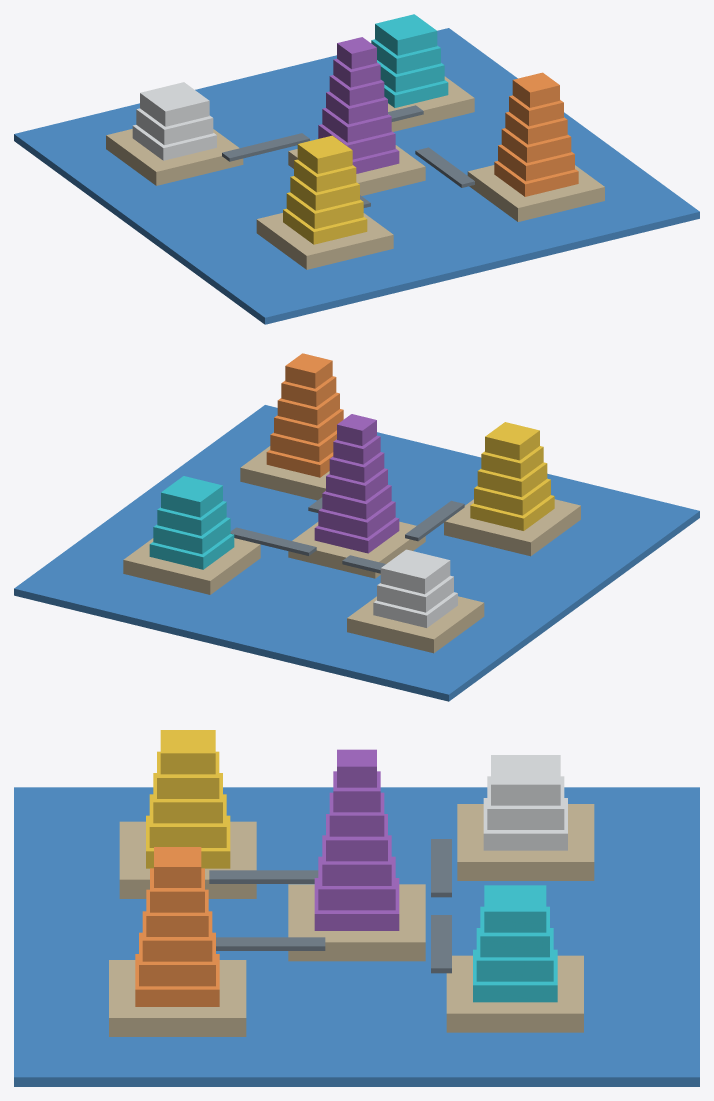
File: gpt-ilhas-das-torres.glb
3 views of the same model, one above another, from view 1: azimuth 30°, elevation 25°; view 2: azimuth 150°, elevation 25°; view 3: azimuth 270°, elevation 25° (orthographic). The views are drawn at different scales.
Parts seen in each view (by area): view 1: Ilhas das Torres-000, Ilhas das Torres-010, Ilhas das Torres-016, Ilhas das Torres-001, Ilhas das Torres-004, Ilhas das Torres-009, Ilhas das Torres-023, Ilhas das Torres-005, Ilhas das Torres-015, Ilhas das Torres-012, Ilhas das Torres-003, Ilhas das Torres-018 (+21 smaller); view 2: Ilhas das Torres-000, Ilhas das Torres-001, Ilhas das Torres-005, Ilhas das Torres-010, Ilhas das Torres-023, Ilhas das Torres-004, Ilhas das Torres-016, Ilhas das Torres-009, Ilhas das Torres-015, Ilhas das Torres-007, Ilhas das Torres-025, Ilhas das Torres-003 (+21 smaller); view 3: Ilhas das Torres-000, Ilhas das Torres-001, Ilhas das Torres-016, Ilhas das Torres-005, Ilhas das Torres-023, Ilhas das Torres-010, Ilhas das Torres-004, Ilhas das Torres-009, Ilhas das Torres-015, Ilhas das Torres-025, Ilhas das Torres-018, Ilhas das Torres-003 (+23 smaller).
Part boxes in pixels (box(x1,y1,x2,y2)): Ilhas das Torres-000: box(14, 28, 699, 324); Ilhas das Torres-010: box(256, 213, 393, 269); Ilhas das Torres-016: box(467, 165, 604, 221); Ilhas das Torres-001: box(106, 129, 243, 185); Ilhas das Torres-004: box(140, 82, 209, 126); Ilhas das Torres-009: box(375, 14, 437, 55); Ilhas das Torres-023: box(288, 145, 425, 195); Ilhas das Torres-005: box(388, 76, 474, 131); Ilhas das Torres-015: box(297, 135, 352, 173); Ilhas das Torres-012: box(286, 192, 363, 228); Ilhas das Torres-003: box(136, 108, 213, 145); Ilhas das Torres-018: box(498, 144, 574, 181); Ilhas das Torres-000: box(14, 405, 699, 701); Ilhas das Torres-001: box(347, 596, 484, 653); Ilhas das Torres-005: box(123, 538, 260, 594); Ilhas das Torres-010: box(444, 499, 580, 556); Ilhas das Torres-023: box(288, 521, 425, 578); Ilhas das Torres-004: box(380, 549, 450, 594); Ilhas das Torres-016: box(240, 446, 329, 500); Ilhas das Torres-009: box(161, 476, 222, 517); Ilhas das Torres-015: box(485, 422, 539, 460); Ilhas das Torres-007: box(153, 517, 230, 554); Ilhas das Torres-025: box(318, 501, 395, 537); Ilhas das Torres-003: box(377, 575, 453, 612); Ilhas das Torres-000: box(14, 787, 699, 1086); Ilhas das Torres-001: box(457, 804, 594, 880); Ilhas das Torres-016: box(109, 960, 246, 1036); Ilhas das Torres-005: box(446, 955, 583, 1032); Ilhas das Torres-023: box(288, 884, 425, 961); Ilhas das Torres-010: box(119, 821, 256, 898); Ilhas das Torres-004: box(491, 755, 560, 805); Ilhas das Torres-009: box(484, 885, 546, 932); Ilhas das Torres-015: box(160, 730, 215, 774); Ilhas das Torres-025: box(318, 856, 395, 910); Ilhas das Torres-018: box(139, 932, 215, 986); Ilhas das Torres-003: box(487, 776, 564, 829).
Size of the model in its own units: 65 by 19.2 by 65.
